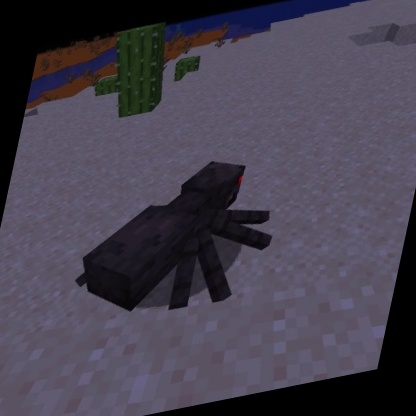spider: (59, 141, 296, 334)
